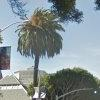Palm tree: (16, 6, 62, 83)
